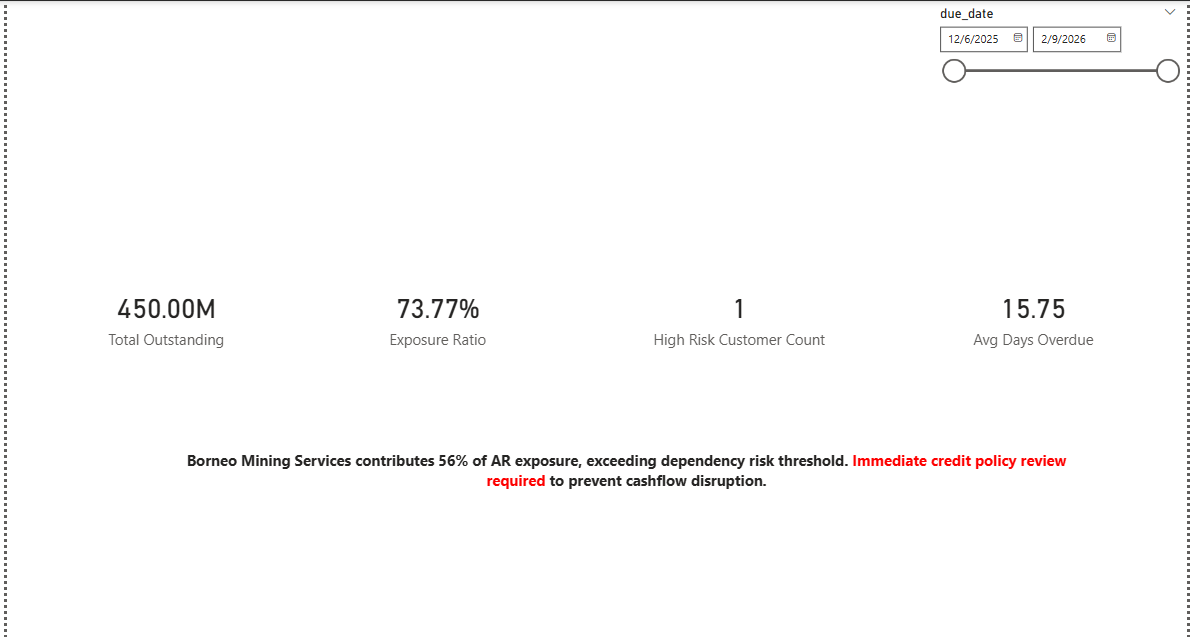

What the dashboard file says about the page in this screenshot:
{"tool":"powerbi","page":{"name":"Executive Overview","canvas":[1280,720],"ordinal":0},"visuals":[{"type":"card","fields":{"Values":["finance sales_invoices.Total Outstanding"]},"box":[32.5,201.7,279.8,279.8],"z":0},{"type":"card","fields":{"Values":["finance sales_invoices.Exposure Ratio"]},"box":[326.9,201.7,279.8,279.8],"z":1000},{"type":"card","fields":{"Values":["finance sales_invoices.High Risk Customer Count"]},"box":[653.9,201.7,279.8,279.8],"z":2000},{"type":"card","fields":{"Values":["finance sales_invoices.Avg Days Overdue"]},"box":[972.7,201.7,279.8,279.8],"z":3000},{"type":"slicer","fields":{"Values":["finance sales_invoices.due_date"]},"box":[998.7,0,281.4,165.9],"z":4000},{"type":"textbox","box":[157.8,481.5,1028,68.3],"z":4001}]}

Visuals, with their boxes on the page's 1280x720 design canvas (x1, y1, x2, y2). These are canvas units, not pixel positions in the 1190x637 screenshot, which may show the page scaled, cropped or inside an application window:
card - finance sales_invoices.Total Outstanding: (32, 202, 312, 482)
card - finance sales_invoices.Exposure Ratio: (327, 202, 607, 482)
card - finance sales_invoices.High Risk Customer Count: (654, 202, 934, 482)
card - finance sales_invoices.Avg Days Overdue: (973, 202, 1252, 482)
slicer - finance sales_invoices.due_date: (999, 0, 1280, 166)
textbox: (158, 482, 1186, 550)
